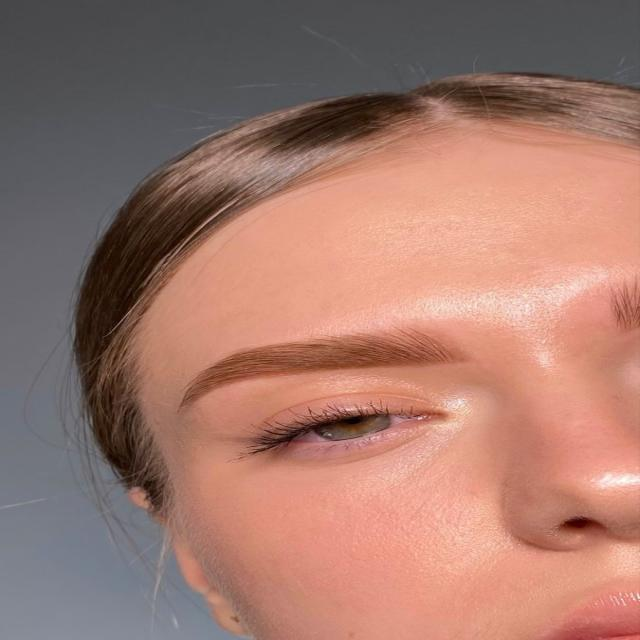Oily-Skin: (469, 411, 640, 525), (361, 268, 620, 342), (434, 543, 637, 609)
